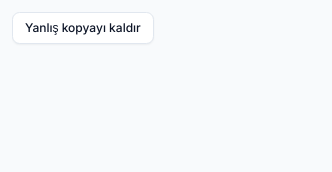
RemoveManualCopyButton › düğme adı 'Yanlış kopyayı kaldır' (iptal değil); ilk basış istek atmaz, onay açar; Vazgeç kapatır
Click the button "Yanlış kopyayı kaldır" at (83, 28), box [12,12,154,44]
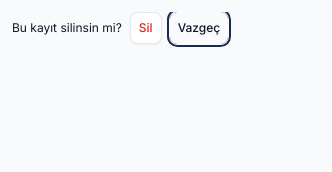
Expected: the text "Bu kayıt silinsin mi?" is shown, [12,20,122,36]
Expected: the button "Sil" is shown, [130,12,162,44]
Click the button "Vazgeç" at (199, 28), box [170,12,228,44]
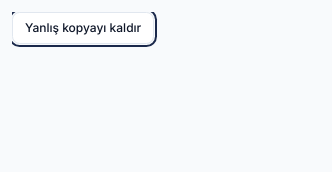
Expected: the text "Bu kayıt silinsin mi?" is gone
Expected: the button "Yanlış kopyayı kaldır" is shown, [12,12,154,44]
